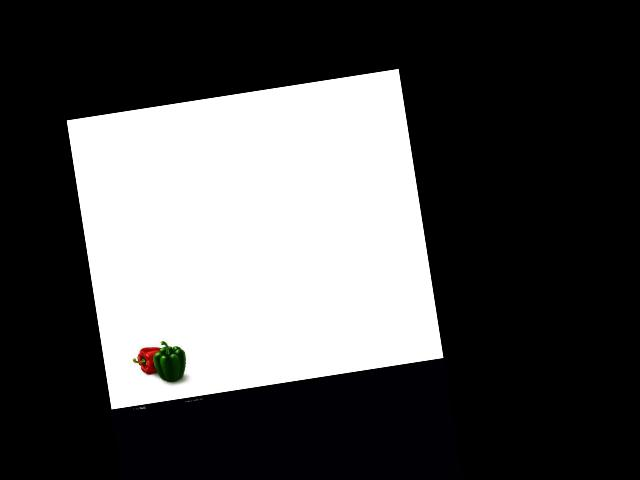bell_pepper: (131, 341, 165, 375)
